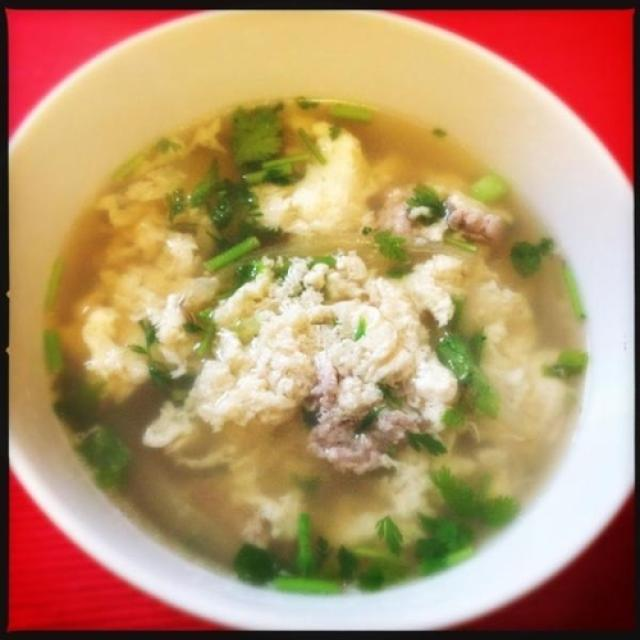汤锅炖物: (13, 15, 631, 613)
